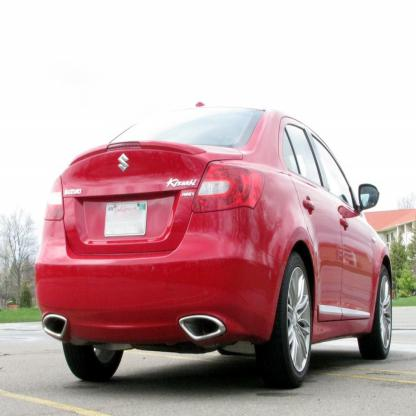Vehicle: (28, 95, 394, 397)
